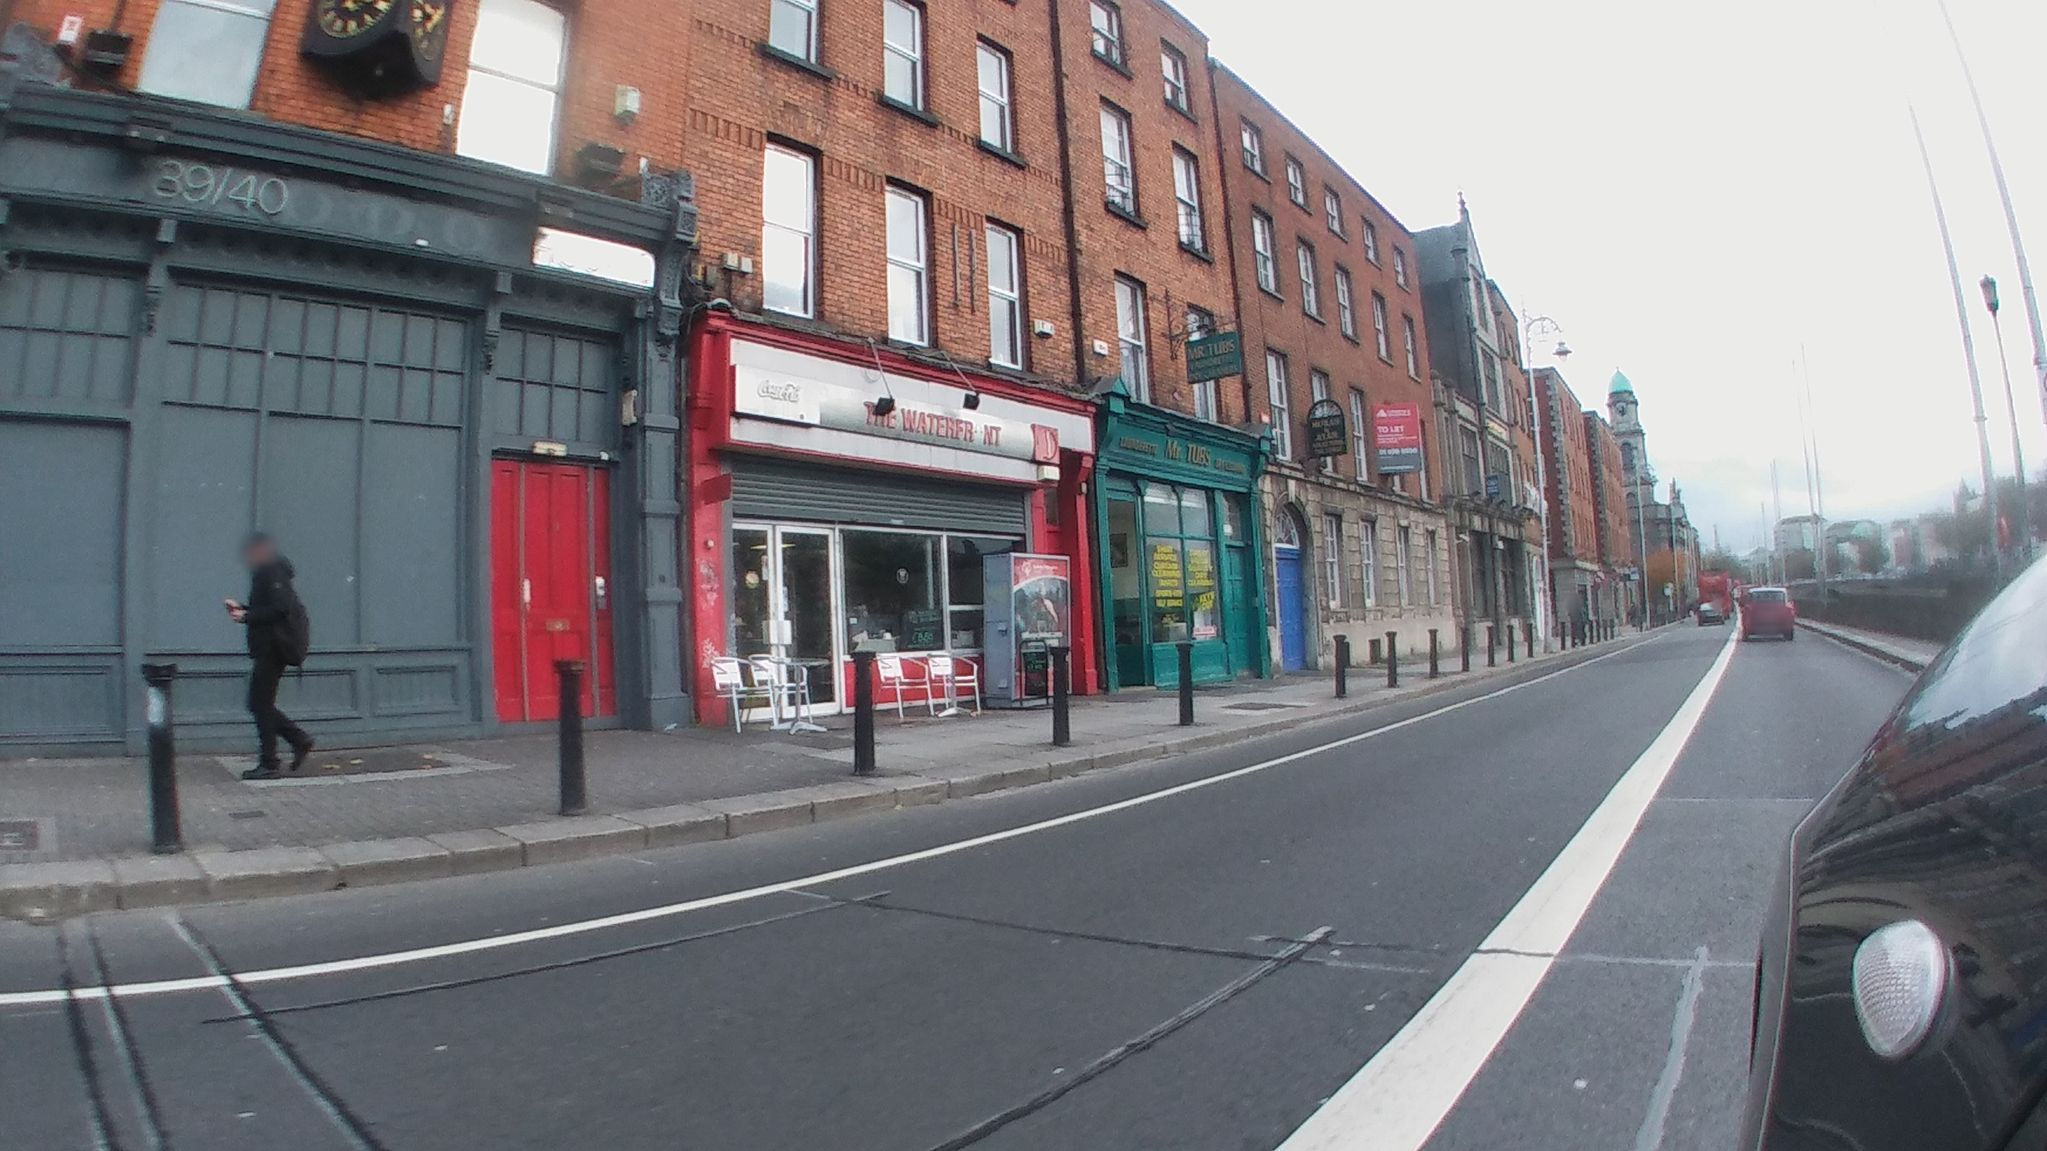property sign: (1375, 384, 1435, 483)
